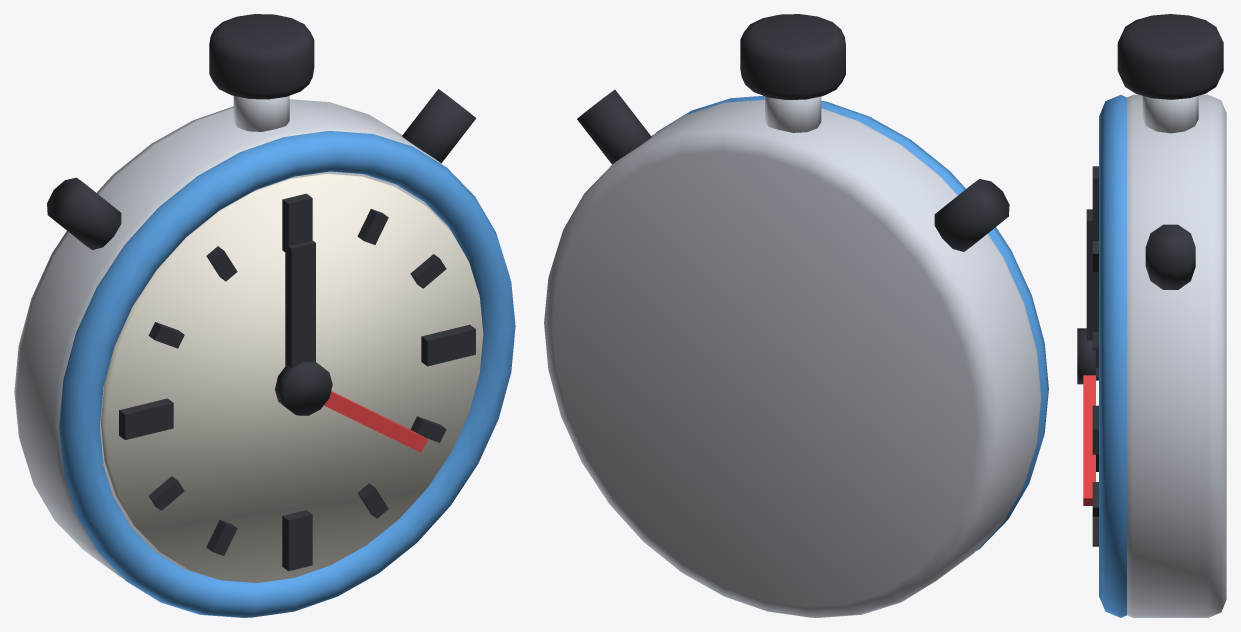
Rendered from ui_freeze.glb.
3 views of the same model, side by side, from view 1: azimuth 30°, elevation 25°; view 2: azimuth 150°, elevation 25°; view 3: azimuth 270°, elevation 25° (orthographic).
Parts seen in each view (by area): view 1: ui_freeze; view 2: ui_freeze; view 3: ui_freeze.
Part boxes in pixels (x1=…): ui_freeze: x1=14, y1=14, x2=515, y2=617; ui_freeze: x1=544, y1=14, x2=1048, y2=617; ui_freeze: x1=1077, y1=14, x2=1226, y2=617.
Size of the model in its own units: 0.84 by 0.995 by 0.24.
